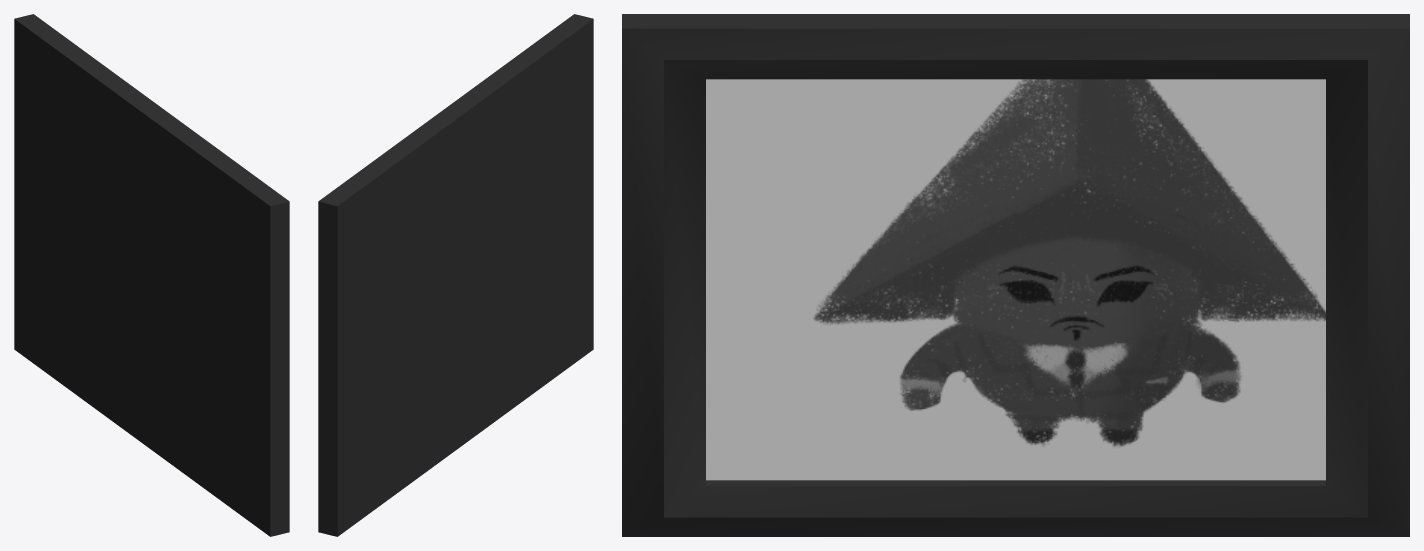
Rendered from fbx_office_frame_4.fbx.
3 views of the same model, side by side, from view 1: azimuth 30°, elevation 25°; view 2: azimuth 150°, elevation 25°; view 3: azimuth 270°, elevation 25° (orthographic). The views are drawn at different scales.
Parts seen in each view (by area): view 1: fbx_office_frame_4; view 2: fbx_office_frame_4; view 3: fbx_office_frame_4.
Boxes of the visible parts, box(x1,y1,x2,y2) form: fbx_office_frame_4: box(14, 14, 289, 536); fbx_office_frame_4: box(318, 14, 593, 536); fbx_office_frame_4: box(622, 14, 1409, 536).
Size of the model in its own units: 0.084 by 0.9693 by 1.36.
Materials: 1 (1 with a texture image).
